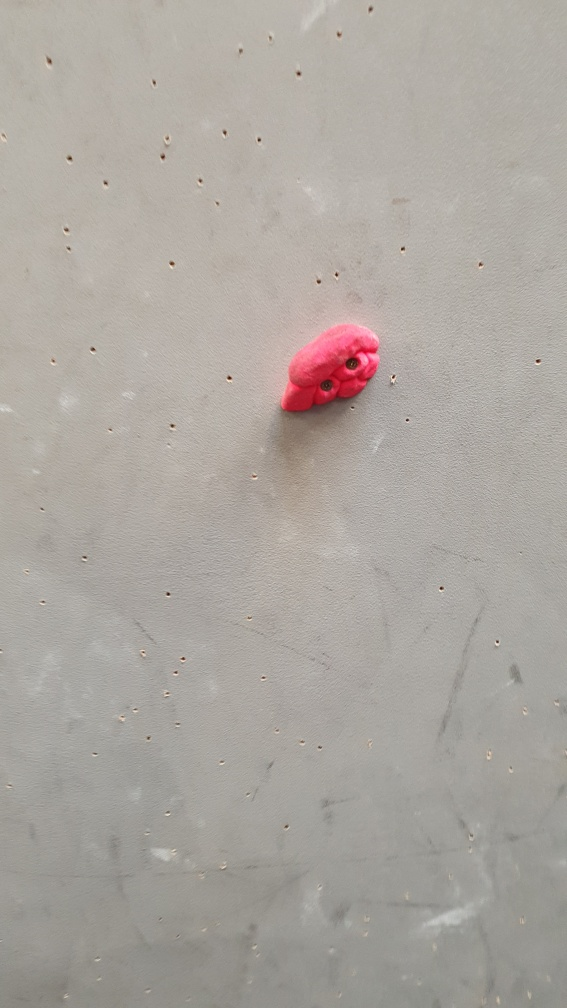Jug: (279, 320, 388, 421)
